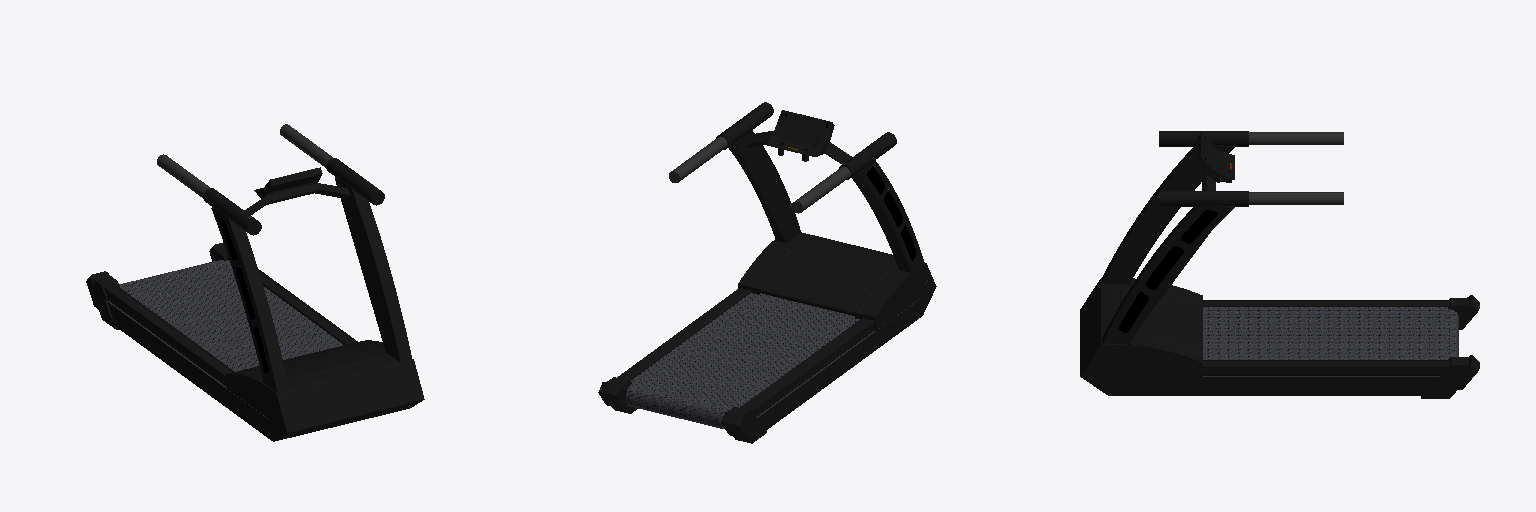
3 renders of one model, left to right at view 1: azimuth 30°, elevation 25°; view 2: azimuth 150°, elevation 25°; view 3: azimuth 270°, elevation 25°, orthographic.
Visible parts, largest first — view 1: Mesh12 Model, Mesh1 Component_10_1 Model, Mesh13 Model, Mesh2 Component_7_1 Model, Mesh14 Model, Mesh15 Model, Mesh10 Component_11_1 Model; view 2: Mesh12 Model, Mesh1 Component_10_1 Model, Mesh13 Model, Mesh2 Component_7_1 Model, Mesh10 Component_11_1 Model, Mesh15 Model, Mesh14 Model; view 3: Mesh12 Model, Mesh1 Component_10_1 Model, Mesh2 Component_7_1 Model, Mesh13 Model, Mesh14 Model, Mesh15 Model, Mesh10 Component_11_1 Model.
Boxes of the visible parts, box(x1,y1,x2,y2) form: Mesh12 Model: box(86, 242, 424, 441); Mesh1 Component_10_1 Model: box(119, 260, 342, 371); Mesh13 Model: box(211, 183, 349, 392); Mesh2 Component_7_1 Model: box(335, 177, 411, 362); Mesh14 Model: box(280, 124, 384, 205); Mesh15 Model: box(157, 154, 261, 235); Mesh10 Component_11_1 Model: box(254, 167, 322, 198); Mesh12 Model: box(598, 232, 936, 443); Mesh1 Component_10_1 Model: box(626, 293, 859, 429); Mesh13 Model: box(745, 131, 924, 272); Mesh2 Component_7_1 Model: box(729, 130, 800, 242); Mesh10 Component_11_1 Model: box(766, 110, 834, 156); Mesh15 Model: box(792, 132, 896, 213); Mesh14 Model: box(669, 102, 773, 182); Mesh12 Model: box(1080, 278, 1479, 398); Mesh1 Component_10_1 Model: box(1203, 307, 1458, 359); Mesh2 Component_7_1 Model: box(1102, 205, 1234, 344); Mesh13 Model: box(1102, 145, 1234, 284); Mesh14 Model: box(1159, 191, 1343, 206); Mesh15 Model: box(1159, 131, 1343, 146); Mesh10 Component_11_1 Model: box(1197, 133, 1234, 182).
Bounding box in the file's own units: 0.873 × 1.31 × 2.14.
11 materials, 1 textured.